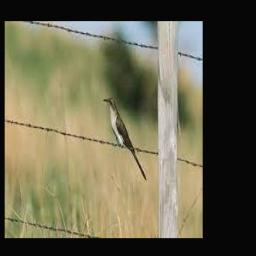Cuckoo: (102, 97, 146, 181)
